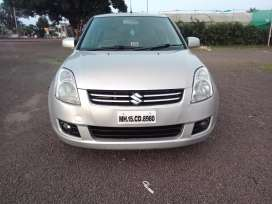license_plate: (117, 112, 156, 123)
